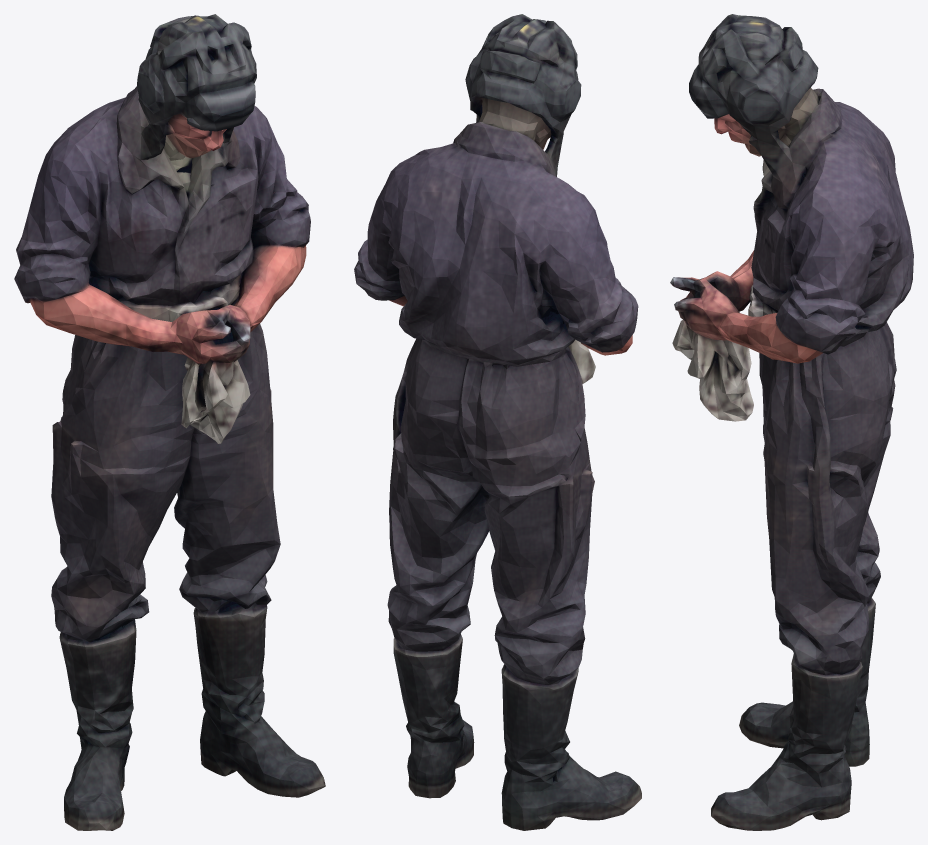
File: crew_su_rag.obj
3 views of the same model, side by side, from view 1: azimuth 30°, elevation 25°; view 2: azimuth 150°, elevation 25°; view 3: azimuth 270°, elevation 25° (orthographic). The views are drawn at different scales.
Parts seen in each view (by area): view 1: crew_su_rag; view 2: crew_su_rag; view 3: crew_su_rag.
Boxes of the visible parts, x1=… form: crew_su_rag: x1=14, y1=14, x2=325, y2=830; crew_su_rag: x1=354, y1=14, x2=641, y2=830; crew_su_rag: x1=670, y1=14, x2=913, y2=830.
Bounding box in the file's own units: 0.6777 × 1.8 × 0.524.
1 material, 1 textured.
